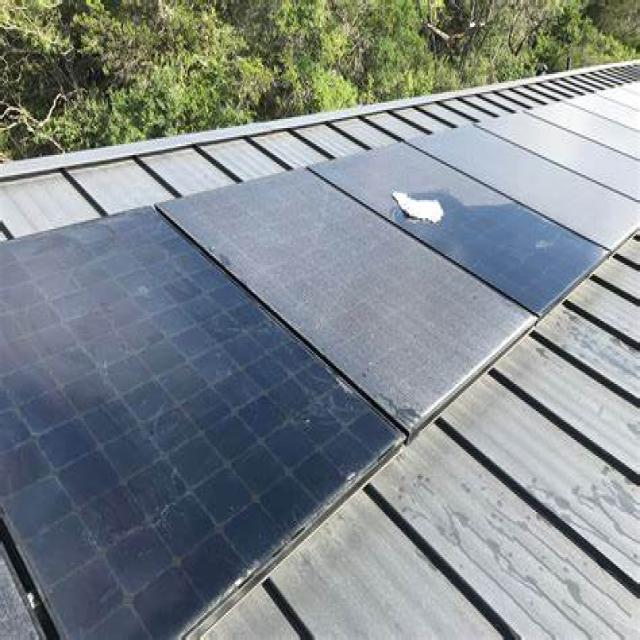dust-solar-panel: (0, 74, 640, 640)
